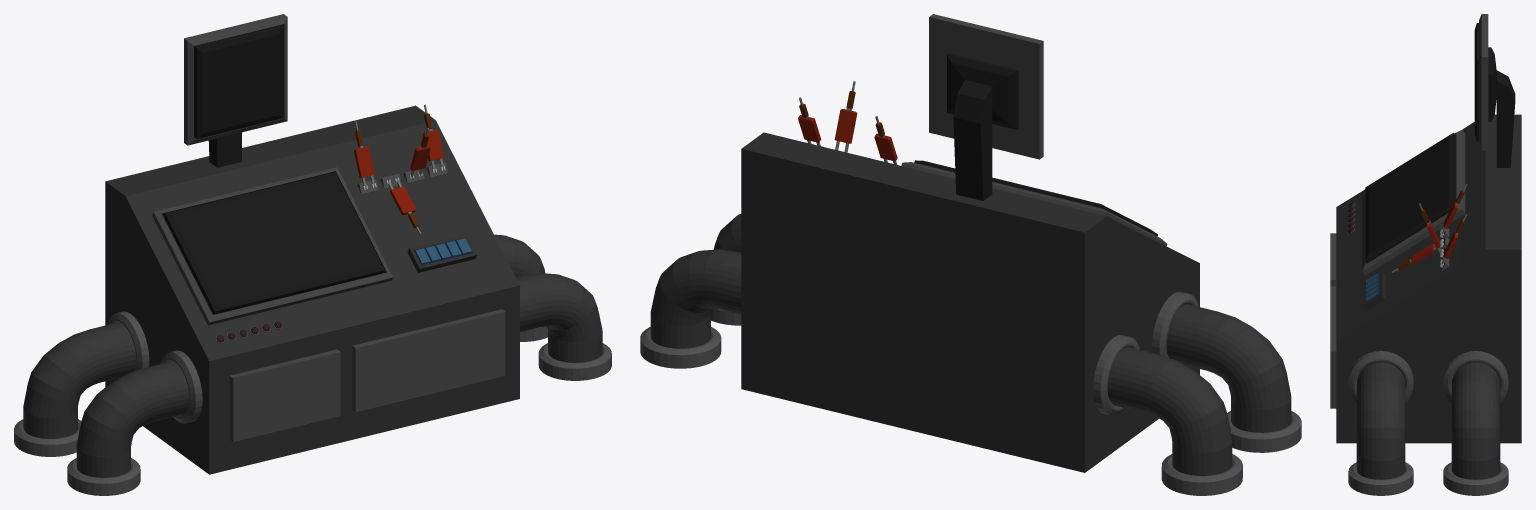
The model's file is Mesa 3.fbx.
3 views of the same model, side by side, from view 1: azimuth 30°, elevation 25°; view 2: azimuth 150°, elevation 25°; view 3: azimuth 270°, elevation 25° (orthographic). The views are drawn at different scales.
Visible parts, largest first — view 1: Mesa 3, Monitor.003, Monitor Quadrado.005, Tampa.001, Tubo 90.003, Tubo 90.004, Tampa.002, Tubo 90.001, Sequencia.008, Tubo 90.002, Cabo Monitor.001, Alavanca_3.002; view 2: Mesa 3, Tubo 90.004, Tubo 90.003, Tubo 90.002, Monitor Quadrado.005, Cabo Monitor.001, Monitor.003, Tubo 90.001, Alavanca_3.004; view 3: Mesa 3, Monitor.003, Tubo 90.002, Tubo 90.001, Cabo Monitor.001, Monitor Quadrado.005, Tampa.001, Sequencia.008, Tampa.002, Alavanca_3.003, Alavanca_3.002, Alavanca_3.004 (+1 smaller).
Part boxes in pixels (x1,y1,x2,y2): Mesa 3: [105, 105, 519, 474]; Monitor.003: [152, 167, 393, 325]; Monitor Quadrado.005: [184, 14, 287, 145]; Tampa.001: [352, 309, 505, 411]; Tubo 90.003: [67, 350, 202, 495]; Tubo 90.004: [14, 311, 149, 456]; Tampa.002: [229, 349, 340, 441]; Tubo 90.001: [516, 273, 611, 380]; Sequencia.008: [407, 234, 476, 272]; Tubo 90.002: [494, 234, 547, 341]; Cabo Monitor.001: [208, 132, 241, 167]; Alavanca_3.002: [354, 121, 374, 187]; Mesa 3: [741, 132, 1199, 472]; Tubo 90.004: [1093, 335, 1242, 495]; Tubo 90.003: [1152, 291, 1301, 452]; Tubo 90.002: [640, 249, 741, 368]; Monitor Quadrado.005: [929, 14, 1043, 159]; Cabo Monitor.001: [947, 53, 1018, 200]; Monitor.003: [901, 160, 1167, 246]; Tubo 90.001: [711, 214, 741, 325]; Alavanca_3.004: [834, 81, 857, 152]; Mesa 3: [1336, 114, 1521, 443]; Monitor.003: [1362, 130, 1465, 275]; Tubo 90.002: [1443, 351, 1508, 495]; Tubo 90.001: [1348, 351, 1413, 495]; Cabo Monitor.001: [1488, 47, 1515, 167]; Monitor Quadrado.005: [1474, 14, 1488, 150]; Tampa.001: [1330, 286, 1336, 408]; Sequencia.008: [1363, 270, 1385, 311]; Tampa.002: [1330, 233, 1336, 286]; Alavanca_3.003: [1392, 240, 1440, 272]; Alavanca_3.002: [1442, 184, 1467, 234]; Alavanca_3.004: [1419, 203, 1441, 254].
Size of the model in its own units: 3191 by 2074 by 1111.
